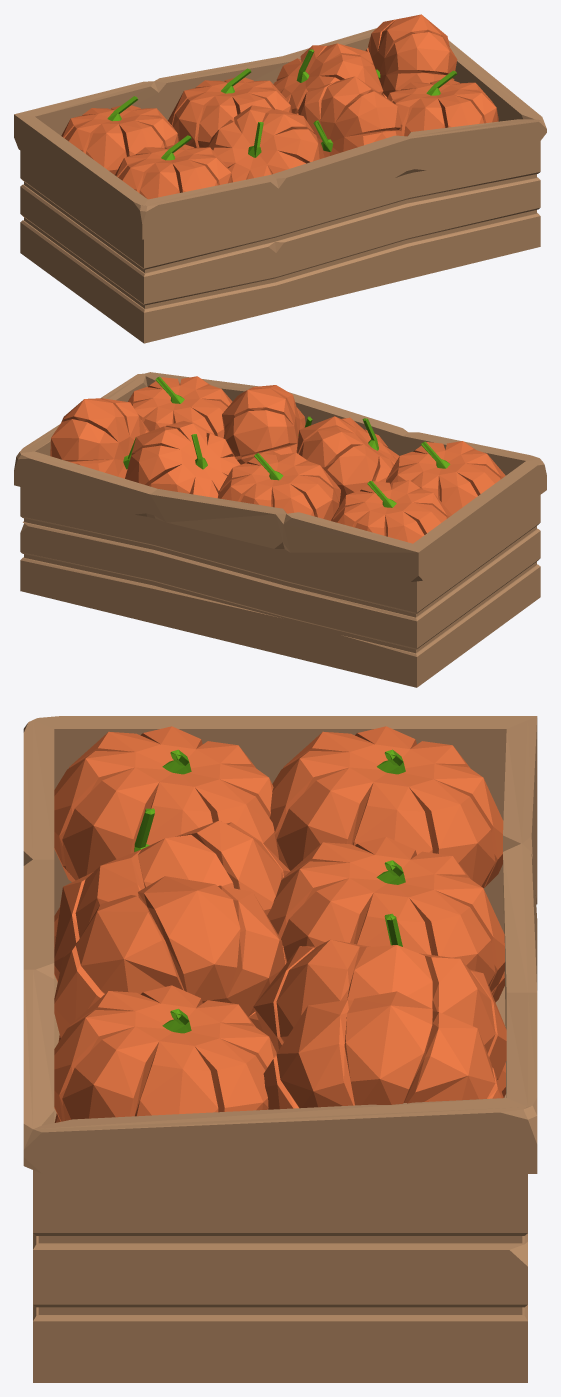
The model's file is 042 Pumpkin_Box.FBX.
3 renders of one model, top to bottom at view 1: azimuth 30°, elevation 25°; view 2: azimuth 150°, elevation 25°; view 3: azimuth 270°, elevation 25°, orthographic. The views are drawn at different scales.
Parts seen in each view (by area): view 1: Box384, pumpkin1316, pumpkin1317, pumpkin1314, pumpkin1311, pumpkin1312, pumpkin1315, pumpkin1318, pumpkin1313; view 2: Box384, pumpkin1313, pumpkin1312, pumpkin1314, pumpkin1316, pumpkin1315, pumpkin1311, pumpkin1317, pumpkin1318; view 3: Box384, pumpkin1311, pumpkin1318, pumpkin1317, pumpkin1315, pumpkin1312, pumpkin1314, pumpkin1313, pumpkin1316.
Boxes of the visible parts, <box> form: Box384: <box>14,28,546,343</box>; pumpkin1316: <box>208,105,324,182</box>; pumpkin1317: <box>296,76,402,157</box>; pumpkin1314: <box>365,14,457,97</box>; pumpkin1311: <box>61,96,178,174</box>; pumpkin1312: <box>168,68,292,147</box>; pumpkin1315: <box>115,135,232,199</box>; pumpkin1318: <box>387,70,498,136</box>; pumpkin1313: <box>273,43,383,113</box>; Box384: <box>14,372,546,687</box>; pumpkin1313: <box>125,421,240,498</box>; pumpkin1312: <box>218,452,340,520</box>; pumpkin1314: <box>50,398,149,478</box>; pumpkin1316: <box>296,416,399,506</box>; pumpkin1315: <box>386,441,505,514</box>; pumpkin1311: <box>331,480,451,543</box>; pumpkin1317: <box>222,385,312,464</box>; pumpkin1318: <box>128,376,232,438</box>; Box384: <box>23,716,537,1382</box>; pumpkin1311: <box>269,726,503,888</box>; pumpkin1318: <box>54,985,276,1121</box>; pumpkin1317: <box>54,876,286,1037</box>; pumpkin1315: <box>54,726,278,881</box>; pumpkin1312: <box>267,837,504,991</box>; pumpkin1314: <box>263,991,503,1109</box>; pumpkin1313: <box>253,913,506,1079</box>; pumpkin1316: <box>54,808,290,972</box>.
Bounding box in the file's own units: 101 × 43.24 × 55.39.
